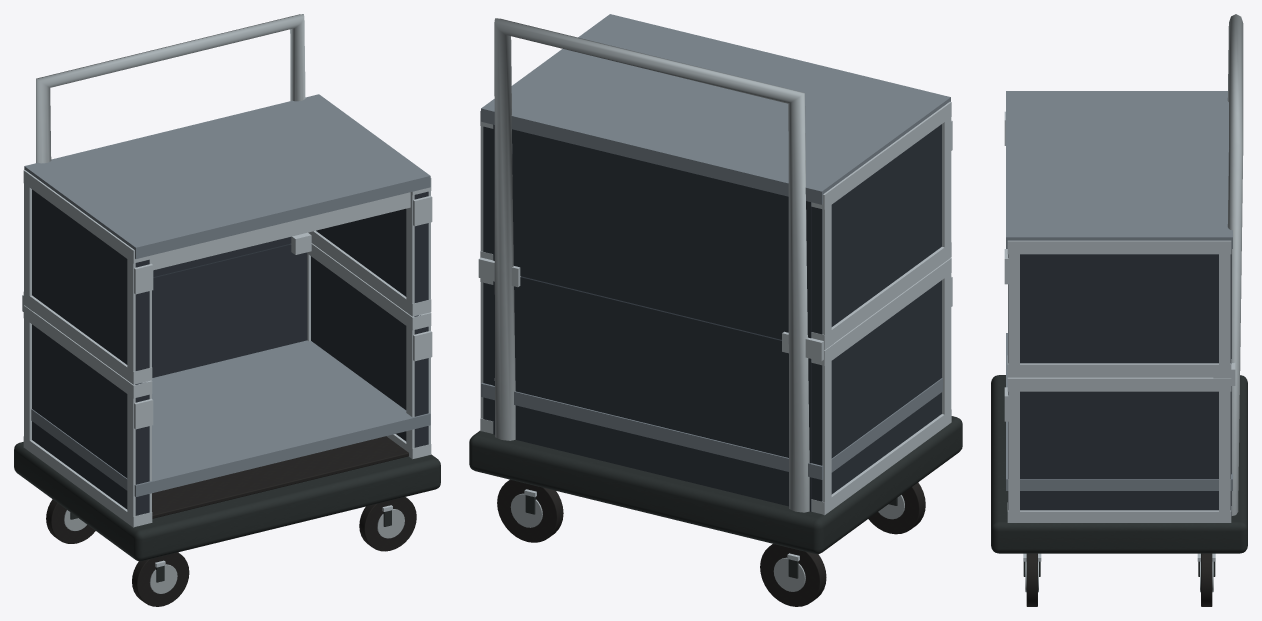
3 views of the same model, side by side, from view 1: azimuth 30°, elevation 25°; view 2: azimuth 150°, elevation 25°; view 3: azimuth 270°, elevation 25° (orthographic). The views are drawn at different scales.
Parts seen in each view (by area): view 1: cart-upper-deck, cart-lower-deck, Platform cart deck, bottom-case-back, top-case-side--0.319, bottom-case-side--0.319, bottom-case-side-0.319, Load deck traction surface, Folding cart push handle, top-case-side-0.319, rack-brow, top-side-band--0.319-0.534 (+15 smaller); view 2: cart-upper-deck, bottom-case-back, top-case-back, Folding cart push handle, Platform cart deck, top-case-side--0.319, bottom-case-side--0.319, cart-lower-deck, wheel-right-rear, wheel-left-rear, top-side-band--0.319-0.534, bottom-side-band--0.319-0.218 (+11 smaller); view 3: cart-upper-deck, top-case-side-0.319, bottom-case-side-0.319, Platform cart deck, Folding cart push handle, top-side-band-0.319-0.534, top-side-band-0.319-0.7989999999999999, bottom-side-band-0.319-0.504, bottom-side-band-0.319-0.218, cart-lower-deck, bottom-aluminium-edge-0.319-0.205, bottom-aluminium-edge-0.319--0.205 (+4 smaller).
Part boxes in pixels (x1,y1,x2,y2): cart-upper-deck: [24, 94, 430, 258]; cart-lower-deck: [31, 340, 430, 496]; Platform cart deck: [14, 442, 440, 561]; bottom-case-back: [152, 244, 307, 377]; top-case-side--0.319: [32, 189, 149, 370]; bottom-case-side--0.319: [32, 324, 149, 515]; bottom-case-side-0.319: [311, 256, 428, 447]; Load deck traction surface: [152, 436, 408, 518]; Folding cart push handle: [36, 14, 305, 163]; top-case-side-0.319: [316, 191, 428, 302]; rack-brow: [152, 192, 410, 270]; top-side-band--0.319-0.534: [23, 292, 152, 384]; cart-upper-deck: [481, 14, 950, 204]; bottom-case-back: [493, 276, 811, 511]; top-case-back: [493, 124, 811, 339]; Folding cart push handle: [494, 18, 809, 512]; Platform cart deck: [469, 416, 962, 554]; top-case-side--0.319: [811, 124, 941, 334]; bottom-case-side--0.319: [811, 280, 941, 501]; cart-lower-deck: [481, 378, 942, 479]; wheel-right-rear: [497, 479, 563, 542]; wheel-left-rear: [760, 544, 826, 606]; top-side-band--0.319-0.534: [811, 242, 951, 349]; bottom-side-band--0.319-0.218: [811, 409, 951, 515]; cart-upper-deck: [1006, 91, 1232, 248]; top-case-side-0.319: [1008, 254, 1230, 363]; bottom-case-side-0.319: [1008, 391, 1230, 510]; Platform cart deck: [991, 375, 1247, 553]; Folding cart push handle: [1227, 14, 1243, 515]; top-side-band-0.319-0.534: [1007, 355, 1231, 377]; top-side-band-0.319-0.7989999999999999: [1007, 240, 1231, 254]; bottom-side-band-0.319-0.504: [1007, 377, 1231, 391]; bottom-side-band-0.319-0.218: [1007, 502, 1231, 522]; cart-lower-deck: [1006, 333, 1232, 490]; bottom-aluminium-edge-0.319-0.205: [1008, 377, 1019, 522]; bottom-aluminium-edge-0.319--0.205: [1219, 378, 1230, 522].
Size of the model in its own units: 0.7 by 1 by 0.5.
6 materials, 3 textured.
